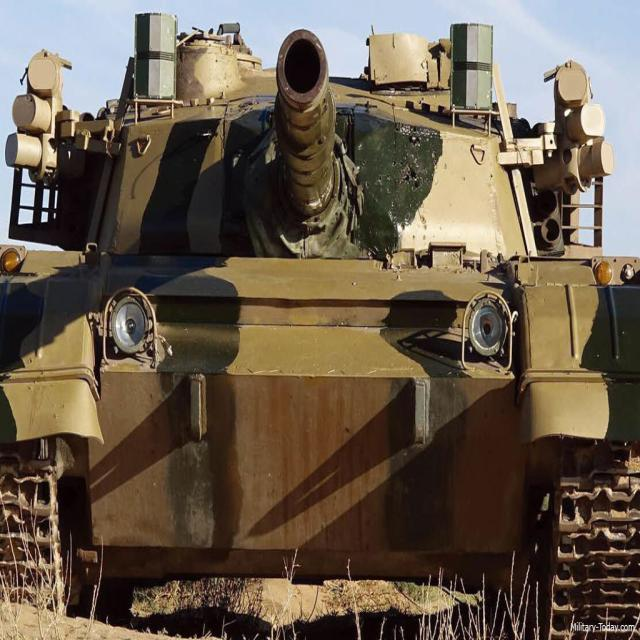Tank: (17, 5, 640, 600)
